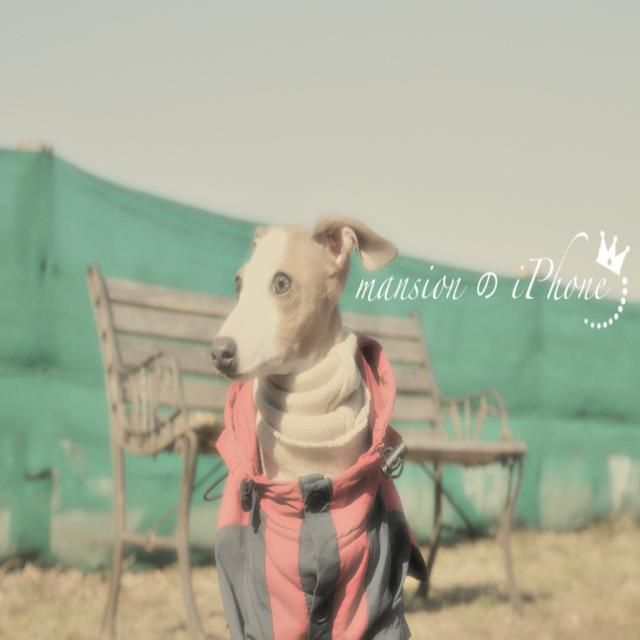Dog: (208, 214, 408, 638)
